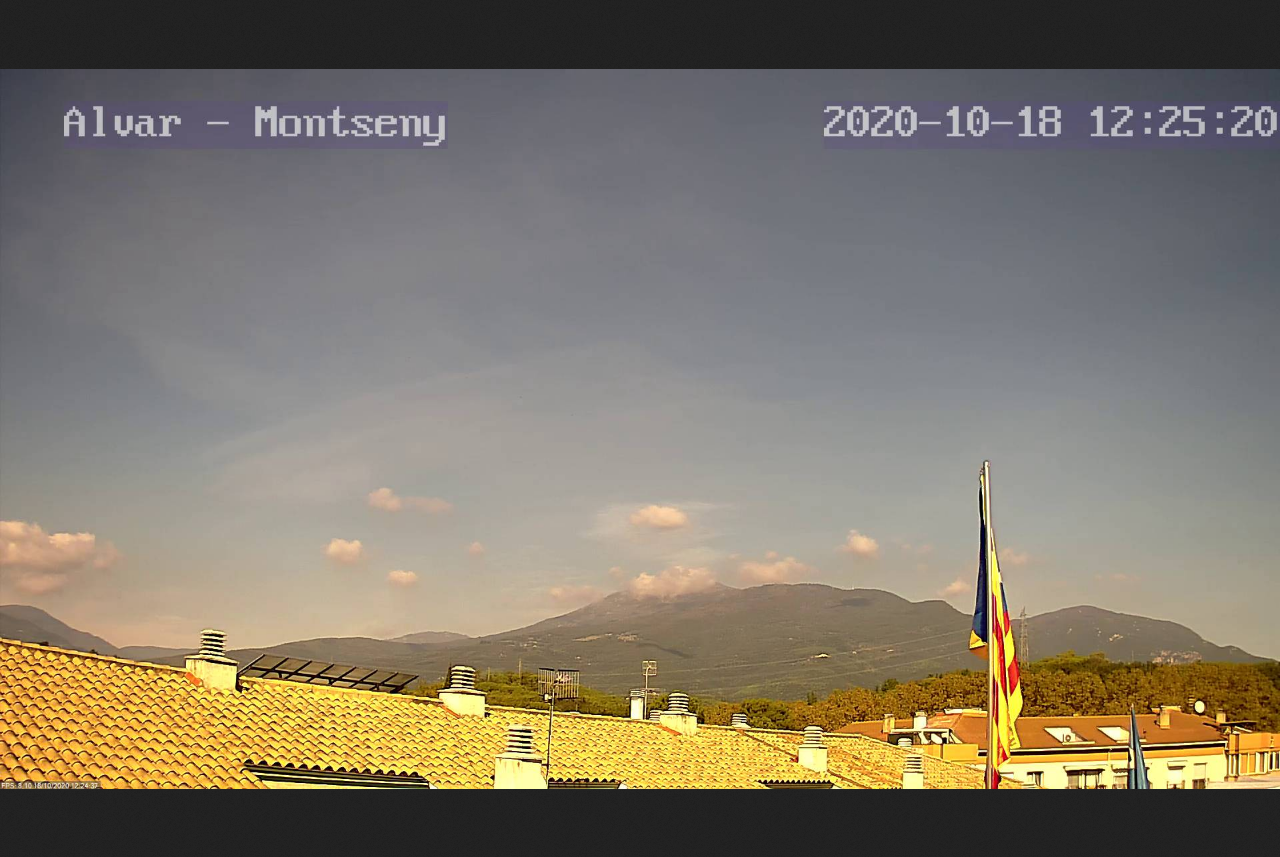no: (963, 470, 1026, 790)
